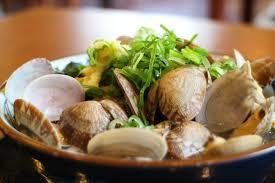asari: (1, 23, 275, 172)
